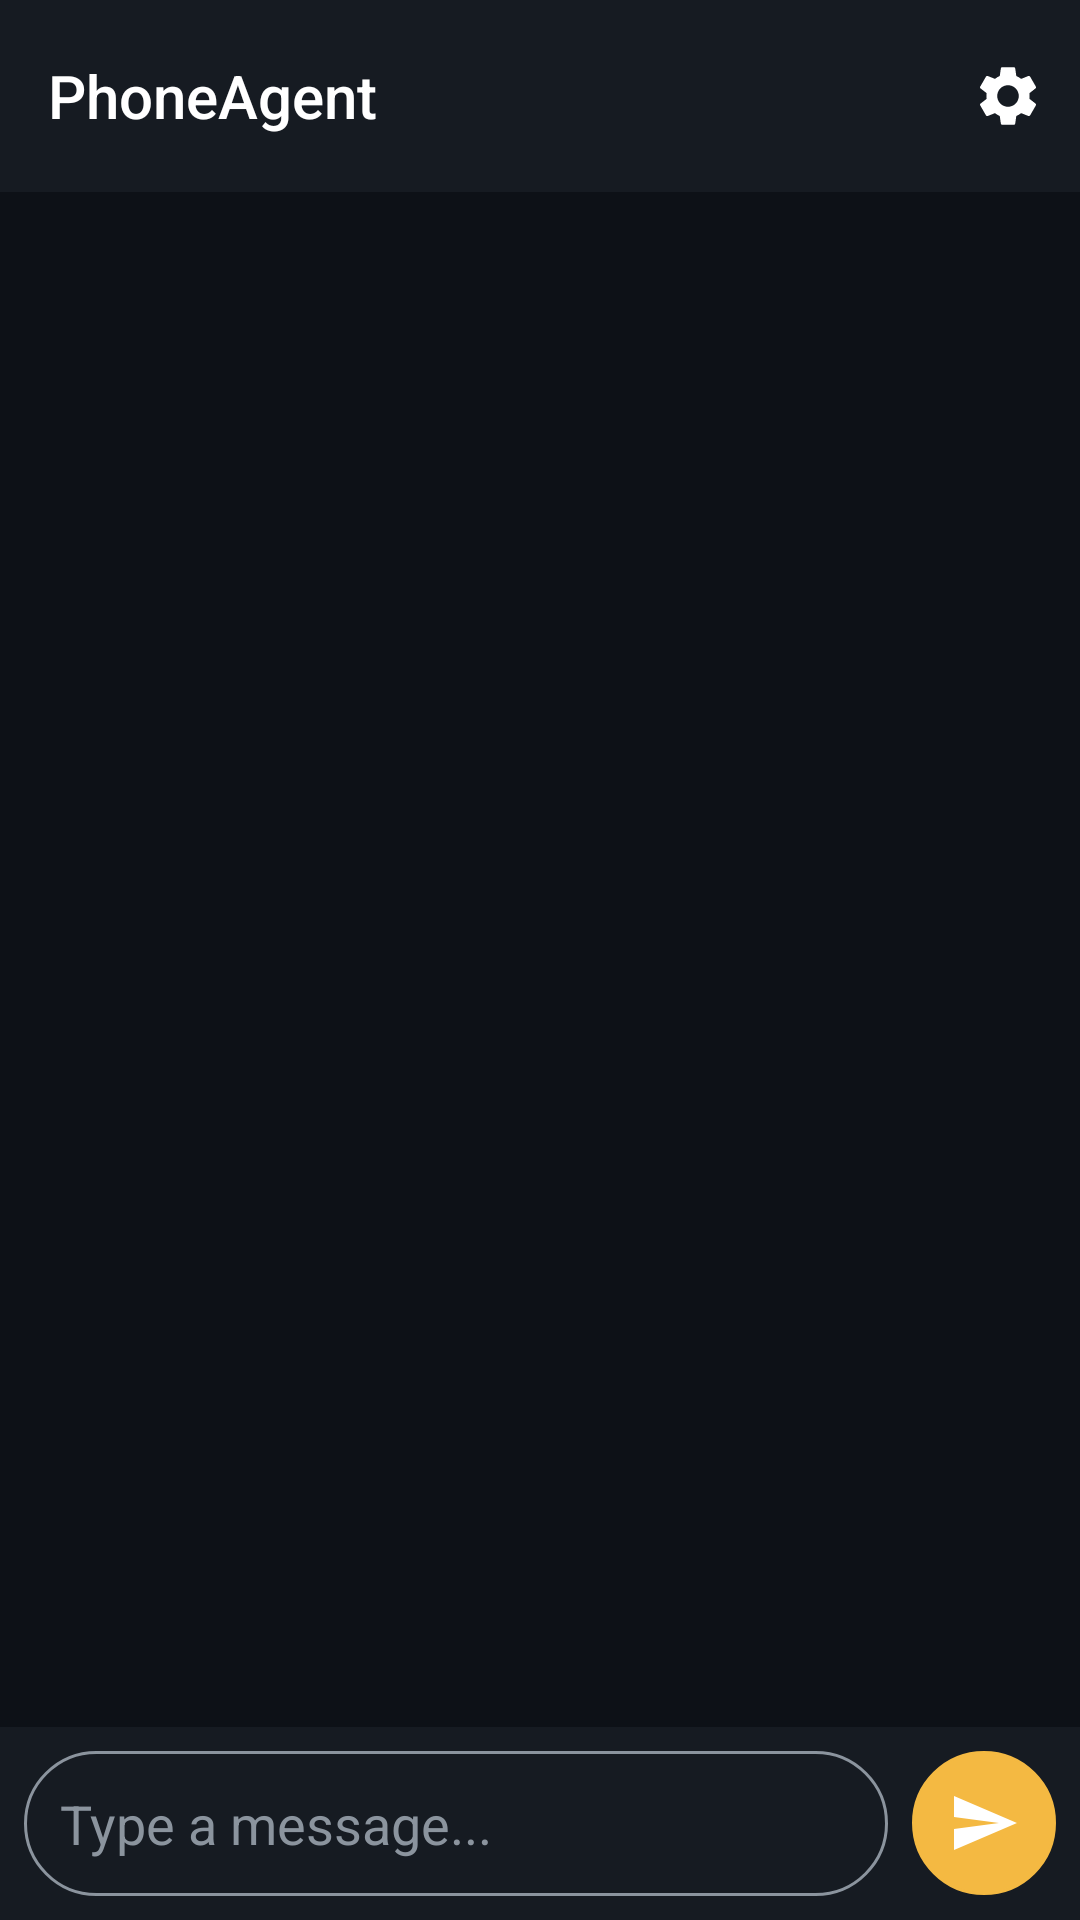

Point at icon controls on the screen. Image size 1080px×1920px, points as [x,y].
Send: [984,1823]
Settings: [1008,96]
